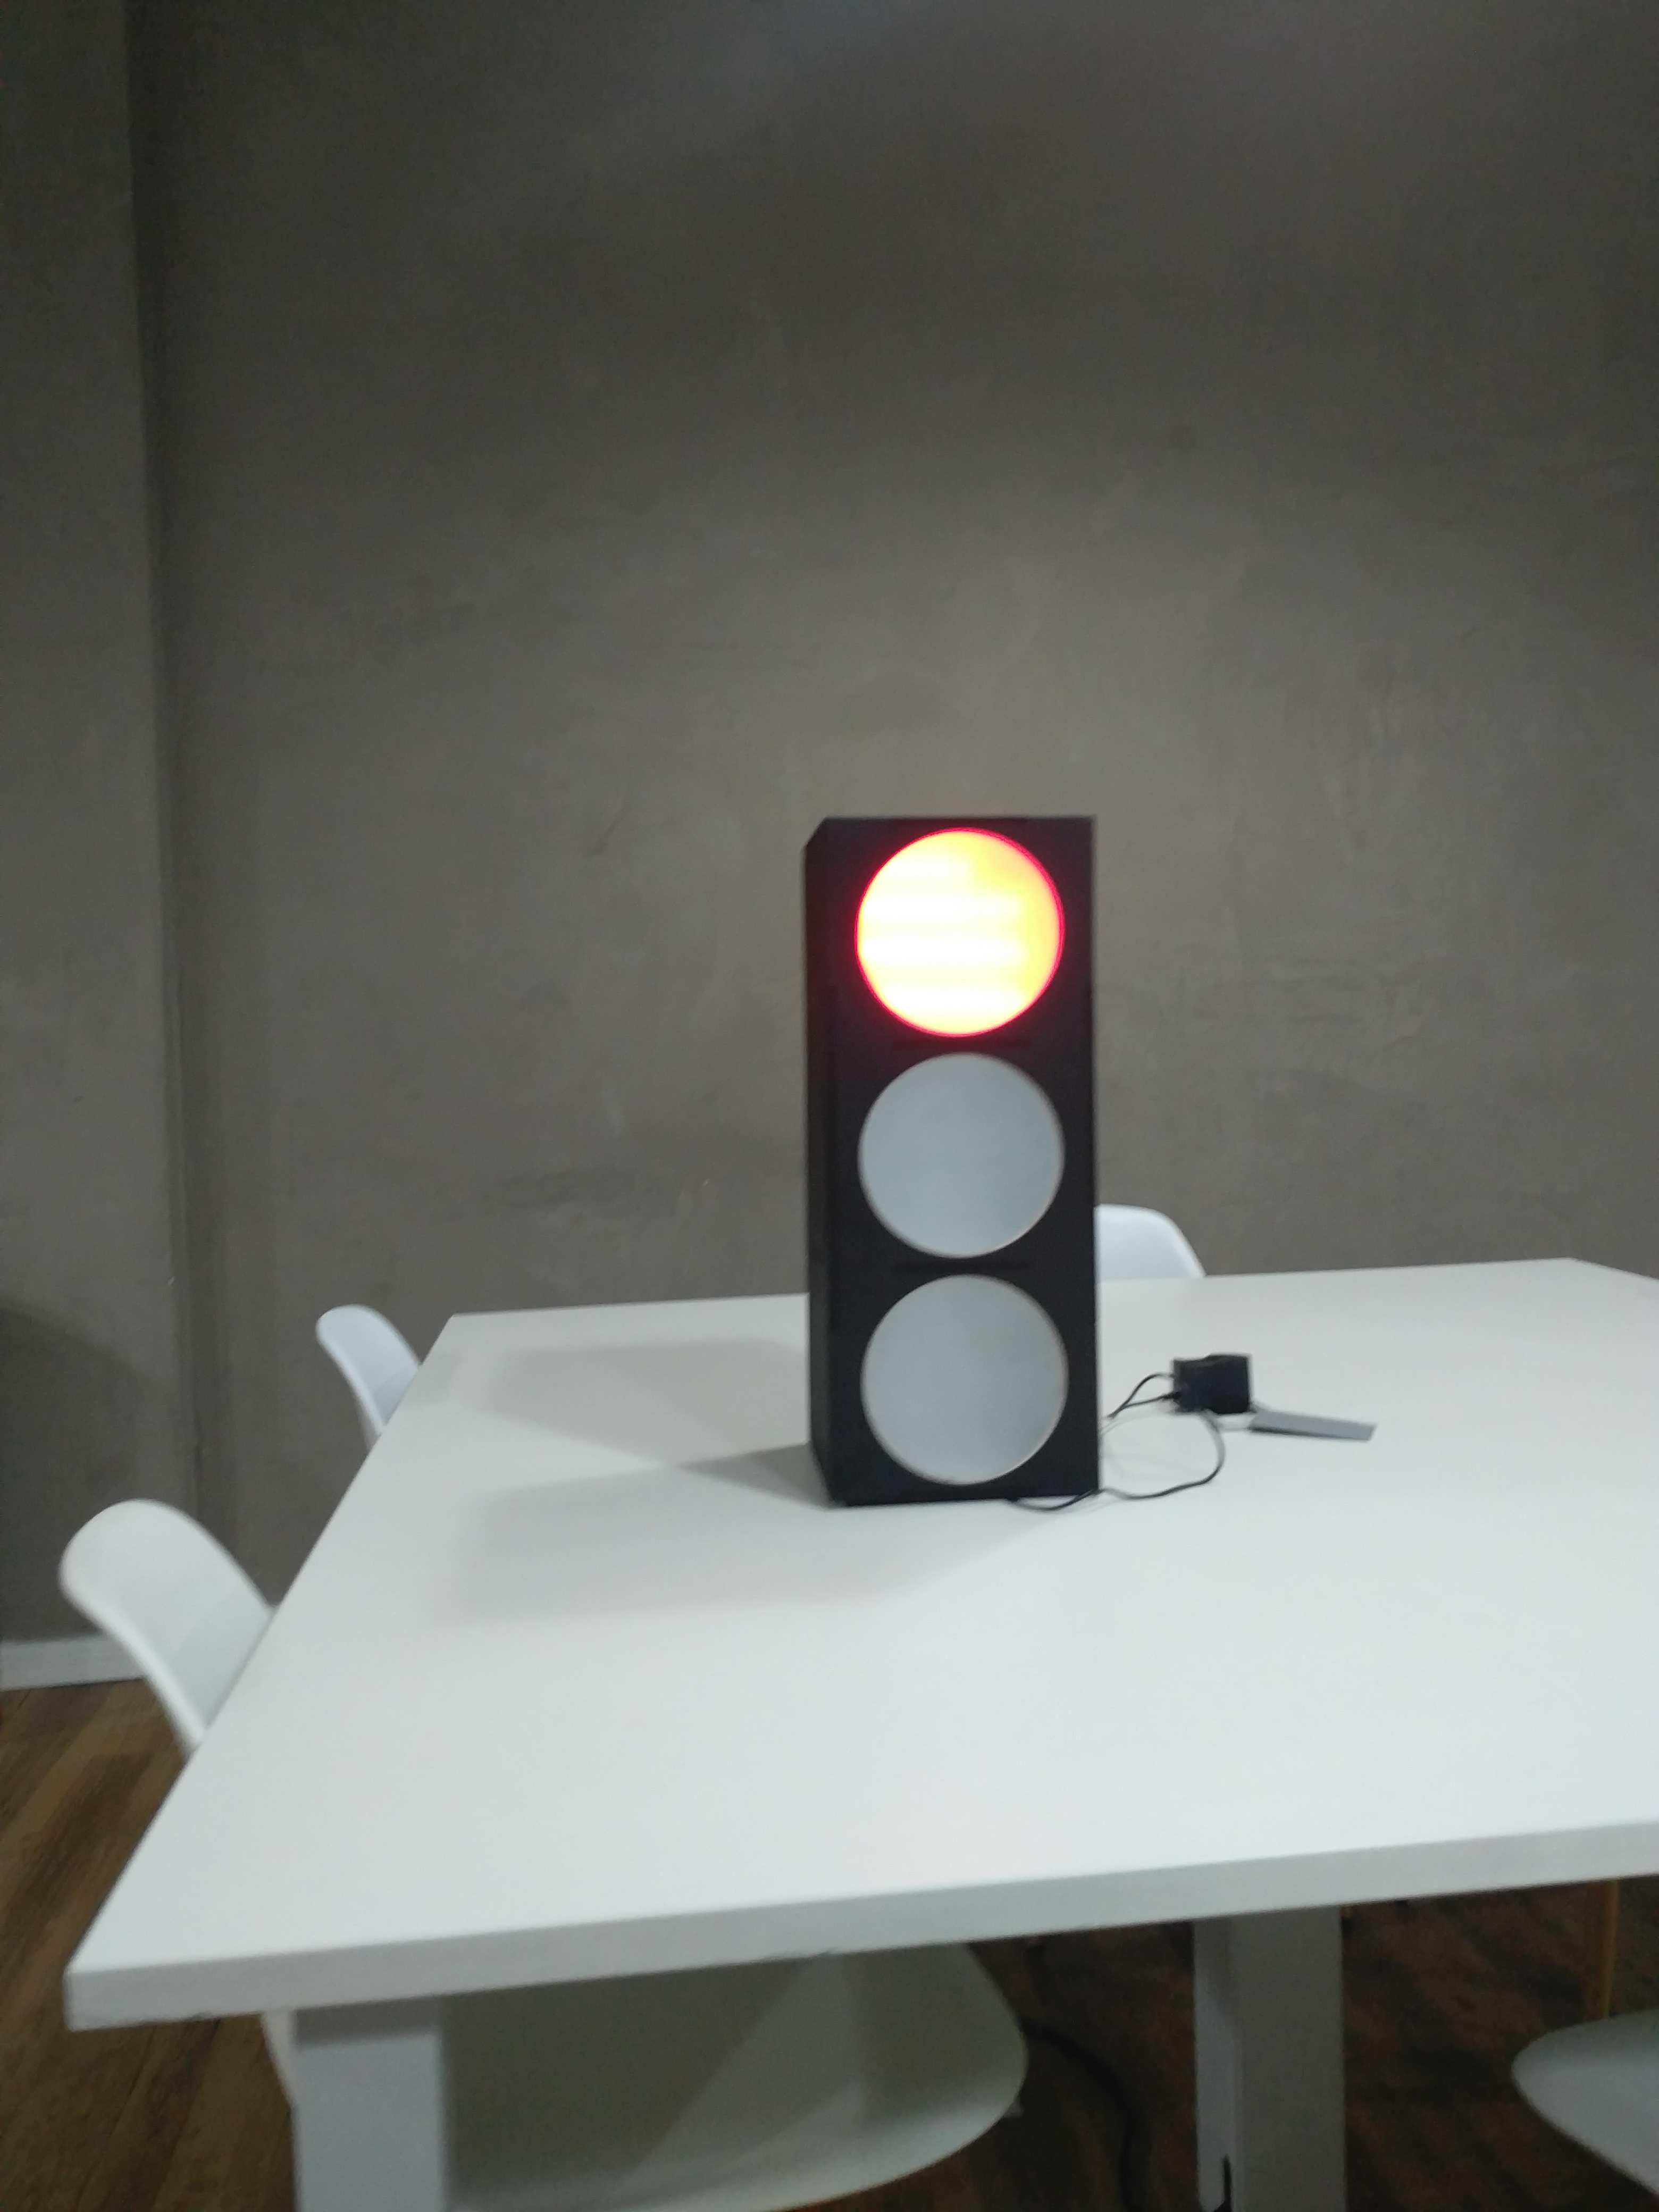stop: (803, 806, 1115, 1508)
